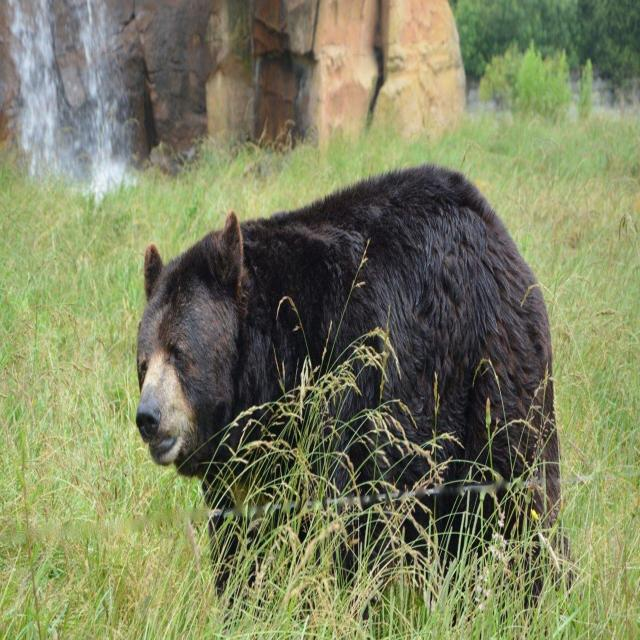Bear: (134, 165, 568, 592)
